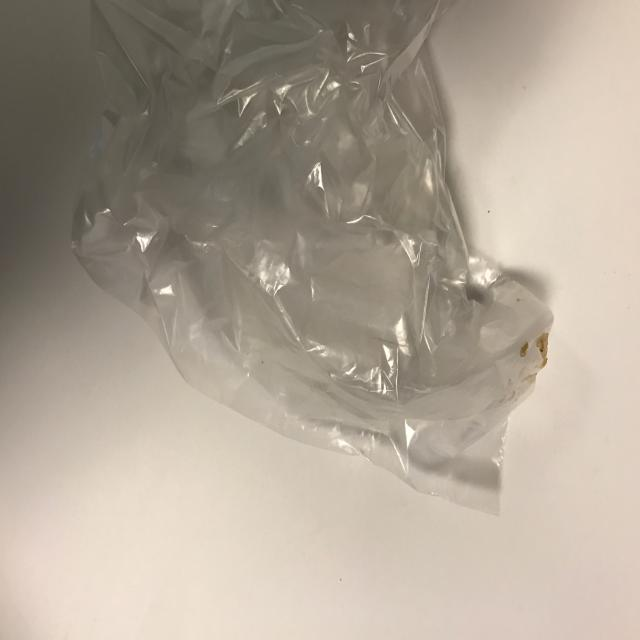Plastic: (70, 0, 573, 544)
